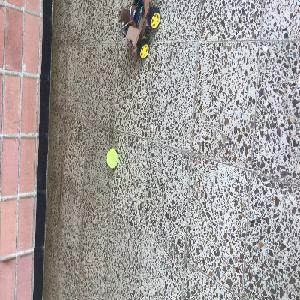Ball: (106, 149, 118, 168)
Robot: (118, 0, 160, 59)
